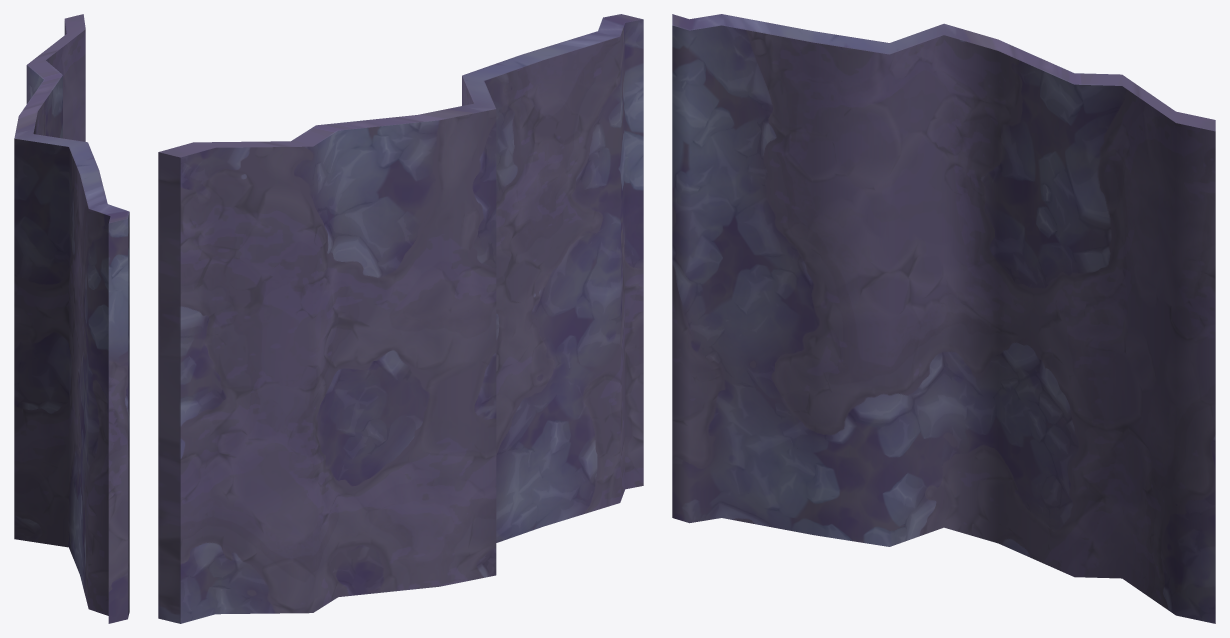
The model's file is convexwall_textured_rae.fbx.
3 renders of one model, left to right at view 1: azimuth 30°, elevation 25°; view 2: azimuth 150°, elevation 25°; view 3: azimuth 270°, elevation 25°, orthographic. The views are drawn at different scales.
Visible parts, largest first — view 1: ConvexWall; view 2: ConvexWall; view 3: ConvexWall.
Boxes of the visible parts, <box> form: ConvexWall: <box>14,14,129,623</box>; ConvexWall: <box>158,14,643,623</box>; ConvexWall: <box>672,14,1215,623</box>.
Size of the model in its own units: 1.02 by 2 by 2.
Materials: 1 (1 with a texture image).
